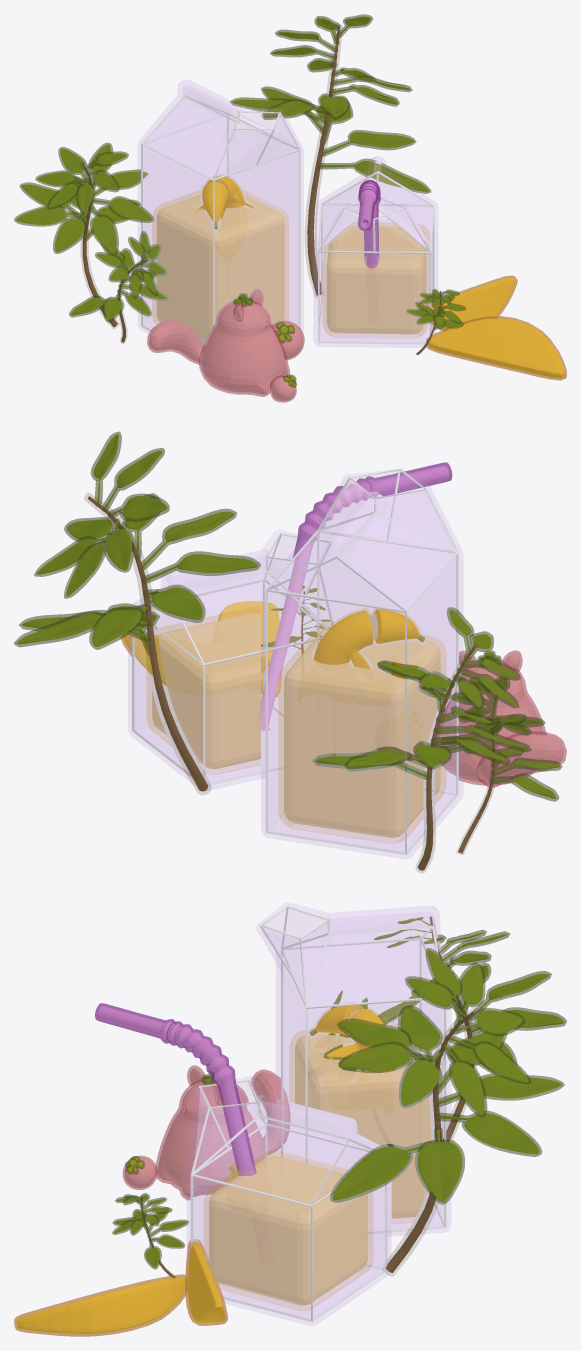
File: fruit-milk.glb
3 renders of one model, top to bottom at view 1: azimuth 30°, elevation 25°; view 2: azimuth 150°, elevation 25°; view 3: azimuth 270°, elevation 25°, orthographic. The views are drawn at different scales.
Visible parts, largest first — view 1: Milk_Box.001_large_MilkBox_0, Milk_Box.004_Material_0; view 2: Milk_Box.001_large_MilkBox_0, Milk_Box.004_Material_0; view 3: Milk_Box.001_large_MilkBox_0, Milk_Box.004_Material_0.
Part boxes in pixels (x1,y1,x2,y2): Milk_Box.001_large_MilkBox_0: [14, 14, 566, 402]; Milk_Box.004_Material_0: [16, 16, 564, 400]; Milk_Box.001_large_MilkBox_0: [14, 431, 566, 872]; Milk_Box.004_Material_0: [16, 434, 563, 870]; Milk_Box.001_large_MilkBox_0: [14, 903, 566, 1336]; Milk_Box.004_Material_0: [16, 906, 564, 1333].
Size of the model in its own units: 0.6144 by 0.3954 by 0.5872.
Materials: 2 (2 with a texture image).
